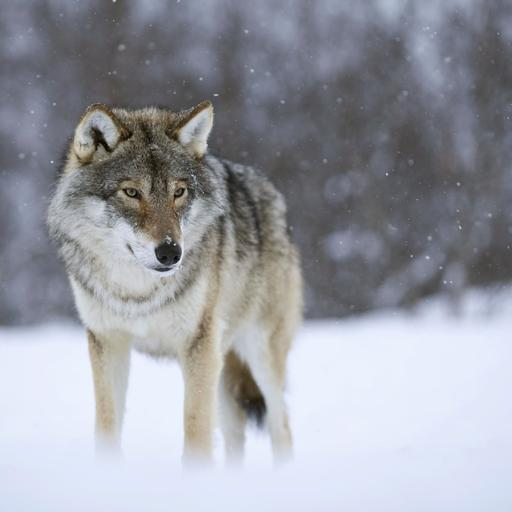Wolf: (43, 92, 312, 490)
